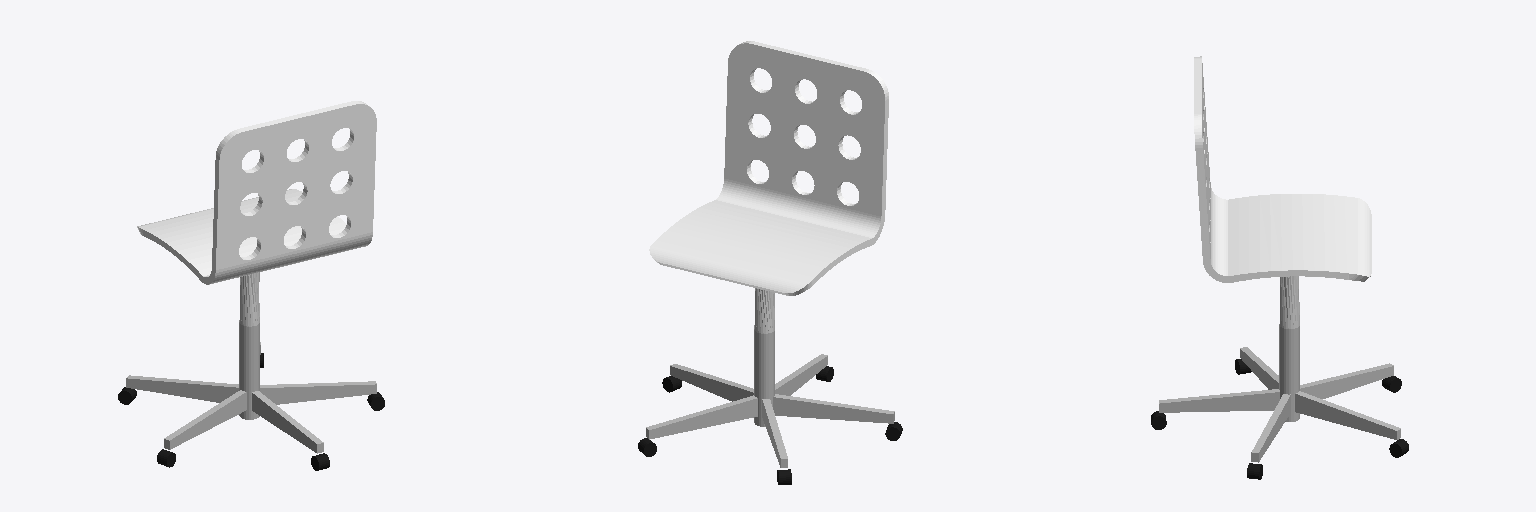
The picture shows the model from 3 angles: view 1: azimuth 30°, elevation 25°; view 2: azimuth 150°, elevation 25°; view 3: azimuth 270°, elevation 25°; orthographic projection.
Visible parts, largest first — view 1: Mesh1 Group2 Group1 Model, Mesh12 Group3 ske3F1 Group1 Model, Mesh5 Group5 Group3 ske3F1 Group1 Model, Mesh3 Group4 Group3 ske3F1 Group1 Model, Mesh7 Group6 Group3 ske3F1 Group1 Model, Mesh9 Group7 Group3 ske3F1 Group1 Model; view 2: Mesh1 Group2 Group1 Model, Mesh12 Group3 ske3F1 Group1 Model, Mesh7 Group6 Group3 ske3F1 Group1 Model, Mesh11 Group8 Group3 ske3F1 Group1 Model, Mesh5 Group5 Group3 ske3F1 Group1 Model, Mesh9 Group7 Group3 ske3F1 Group1 Model, Mesh3 Group4 Group3 ske3F1 Group1 Model; view 3: Mesh1 Group2 Group1 Model, Mesh12 Group3 ske3F1 Group1 Model, Mesh9 Group7 Group3 ske3F1 Group1 Model, Mesh11 Group8 Group3 ske3F1 Group1 Model, Mesh3 Group4 Group3 ske3F1 Group1 Model, Mesh5 Group5 Group3 ske3F1 Group1 Model, Mesh7 Group6 Group3 ske3F1 Group1 Model.
Part boxes in pixels (left/top/right/bottom): Mesh1 Group2 Group1 Model: left=137, top=101, right=376, bottom=284; Mesh12 Group3 ske3F1 Group1 Model: left=239, top=272, right=259, bottom=419; Mesh5 Group5 Group3 ske3F1 Group1 Model: left=260, top=381, right=376, bottom=404; Mesh3 Group4 Group3 ske3F1 Group1 Model: left=126, top=375, right=238, bottom=402; Mesh7 Group6 Group3 ske3F1 Group1 Model: left=164, top=390, right=246, bottom=449; Mesh9 Group7 Group3 ske3F1 Group1 Model: left=252, top=391, right=323, bottom=453; Mesh1 Group2 Group1 Model: left=649, top=41, right=888, bottom=295; Mesh12 Group3 ske3F1 Group1 Model: left=754, top=288, right=774, bottom=426; Mesh7 Group6 Group3 ske3F1 Group1 Model: left=773, top=394, right=894, bottom=423; Mesh11 Group8 Group3 ske3F1 Group1 Model: left=646, top=395, right=757, bottom=439; Mesh5 Group5 Group3 ske3F1 Group1 Model: left=670, top=364, right=753, bottom=401; Mesh9 Group7 Group3 ske3F1 Group1 Model: left=775, top=354, right=827, bottom=395; Mesh3 Group4 Group3 ske3F1 Group1 Model: left=762, top=399, right=787, bottom=467; Mesh1 Group2 Group1 Model: left=1194, top=56, right=1371, bottom=282; Mesh12 Group3 ske3F1 Group1 Model: left=1279, top=276, right=1299, bottom=421; Mesh9 Group7 Group3 ske3F1 Group1 Model: left=1159, top=389, right=1279, bottom=412; Mesh11 Group8 Group3 ske3F1 Group1 Model: left=1295, top=391, right=1400, bottom=439; Mesh3 Group4 Group3 ske3F1 Group1 Model: left=1300, top=363, right=1393, bottom=398; Mesh5 Group5 Group3 ske3F1 Group1 Model: left=1251, top=394, right=1290, bottom=462; Mesh7 Group6 Group3 ske3F1 Group1 Model: left=1240, top=347, right=1278, bottom=389.
Size of the model in its own units: 0.5506 by 0.7703 by 0.5317.